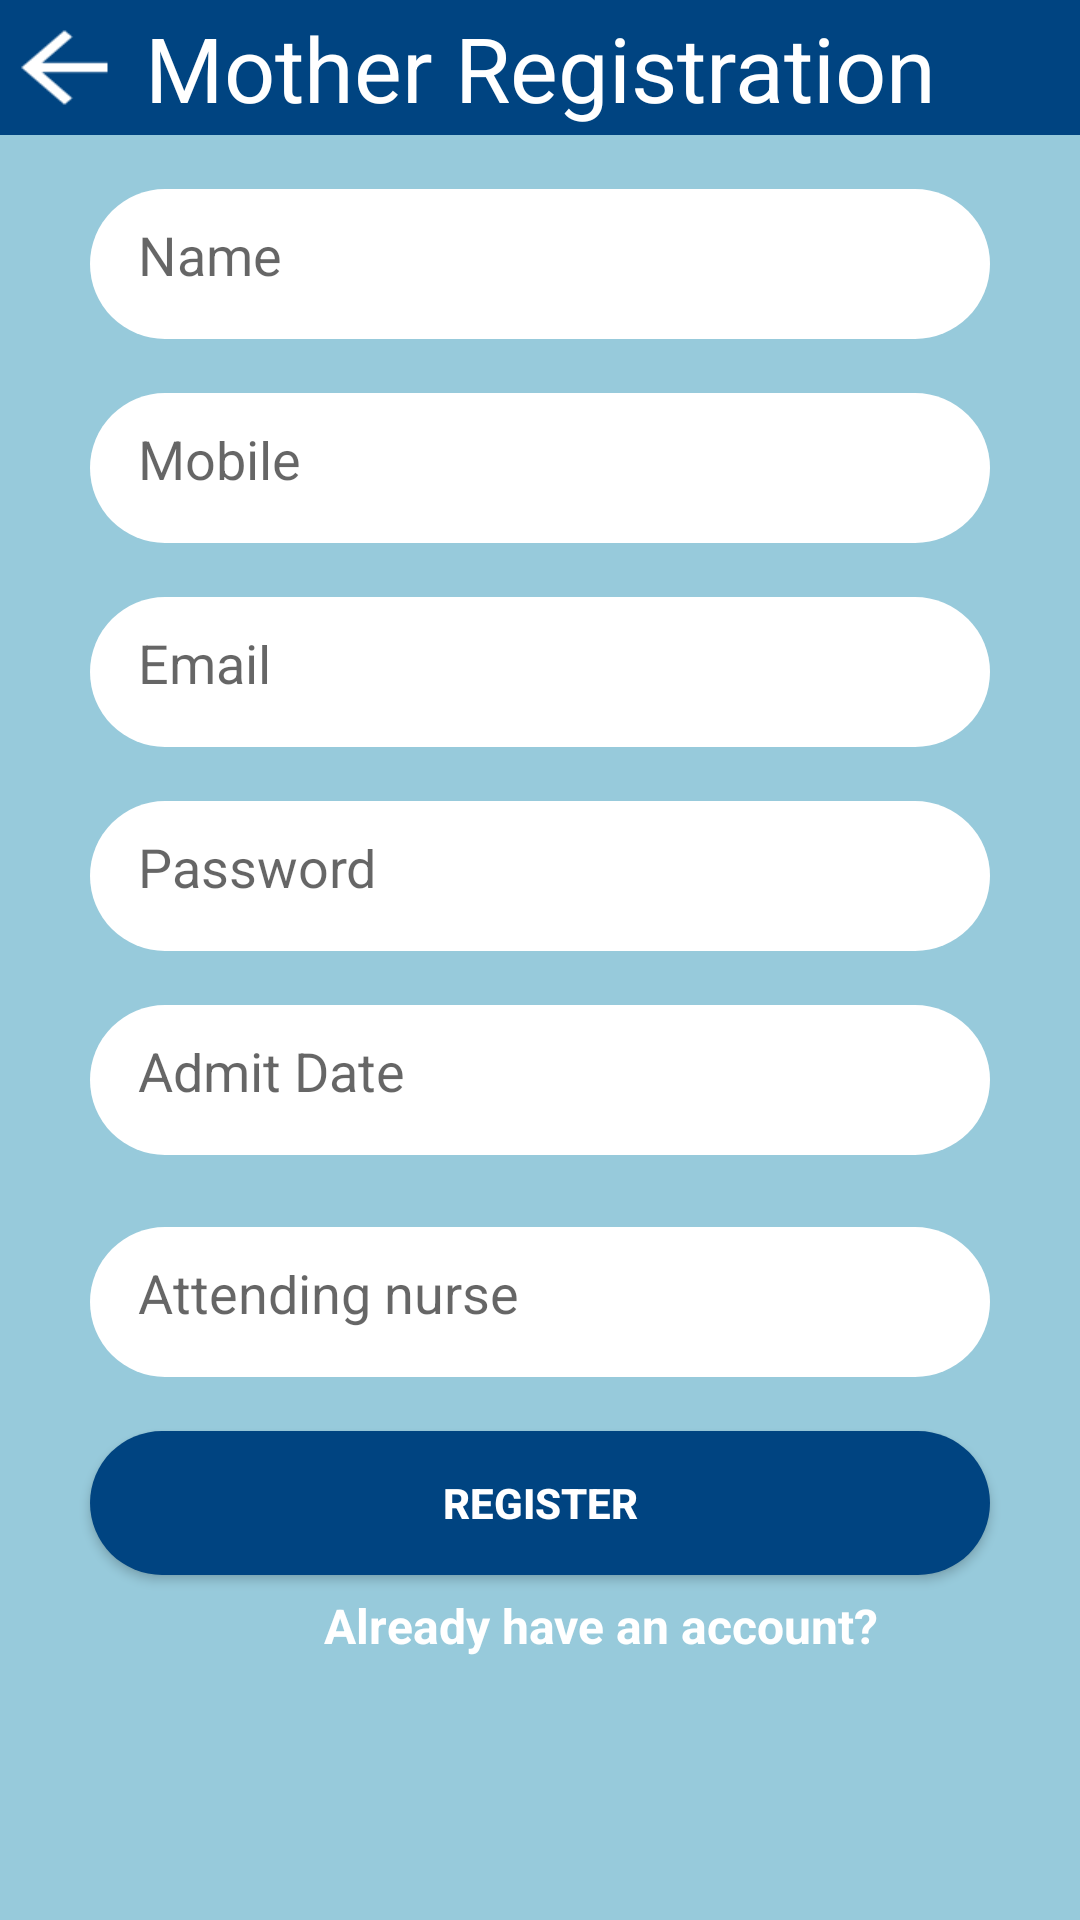

Icons on this 1080px x 1920px Android screen, each with its box as (x1, y1, x2, y2):
back: (21, 30, 108, 105)
